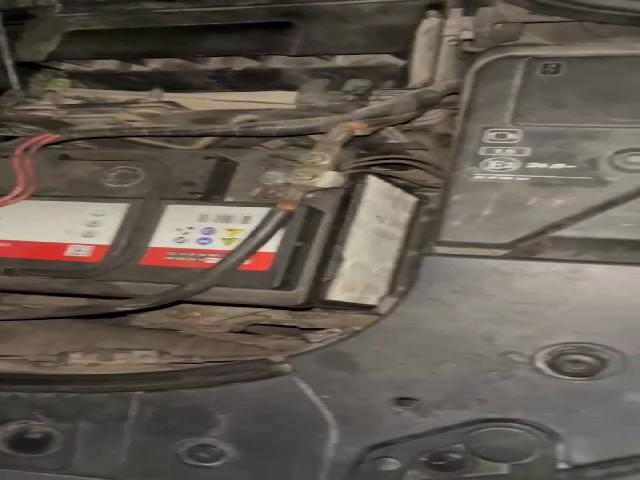accumulator: (0, 146, 425, 314)
fuse_box: (428, 53, 640, 255)
